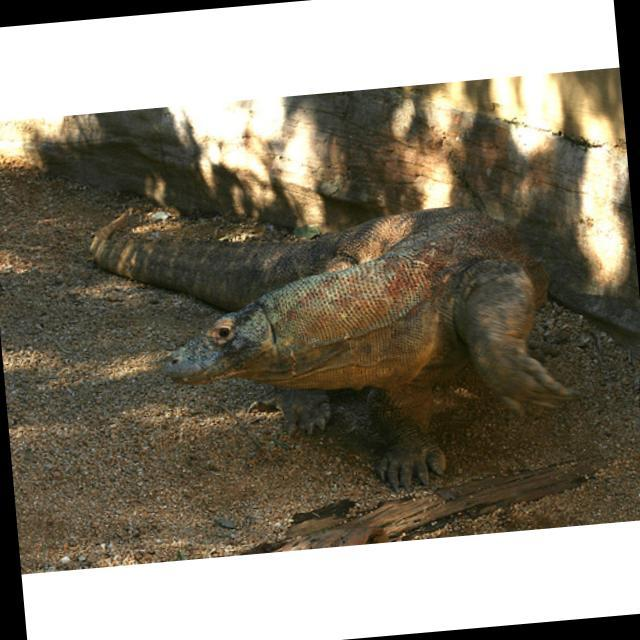KomodoDragon: (86, 166, 589, 517)
